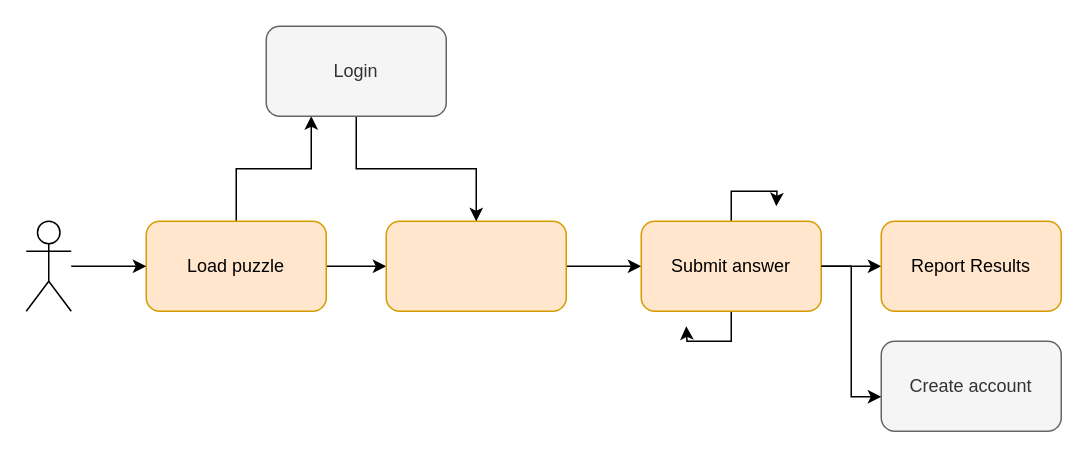
Image size: 1088x458. Some labels were removed from this diagram. Each missing label, with the box of its shape:
Nerd: (25, 220, 71, 311)
Stream search results: (385, 220, 566, 311)
